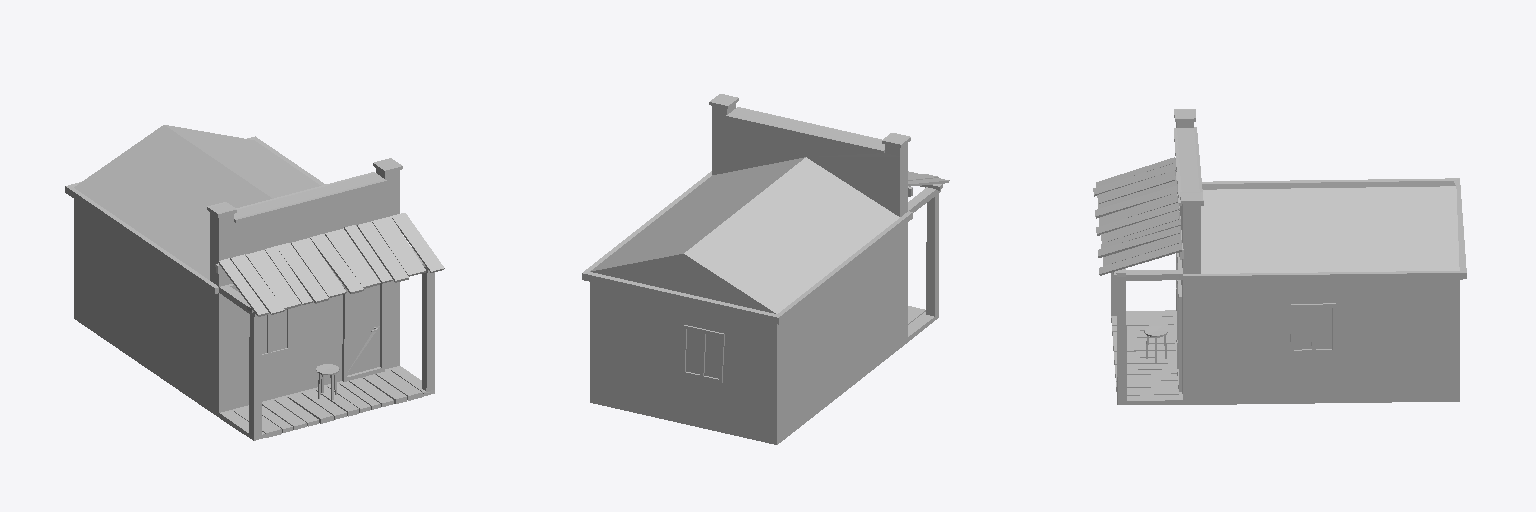
File: western house tiglanka.obj
3 views of the same model, side by side, from view 1: azimuth 30°, elevation 25°; view 2: azimuth 150°, elevation 25°; view 3: azimuth 270°, elevation 25° (orthographic).
Visible parts, largest first — view 1: Cube; view 2: Cube; view 3: Cube.
Boxes of the visible parts, x1,y1,x2,y2 form: Cube: [65, 125, 444, 440]; Cube: [582, 94, 949, 444]; Cube: [1093, 109, 1466, 404].
Bounding box in the file's own units: 2.79 × 2.72 × 4.49.